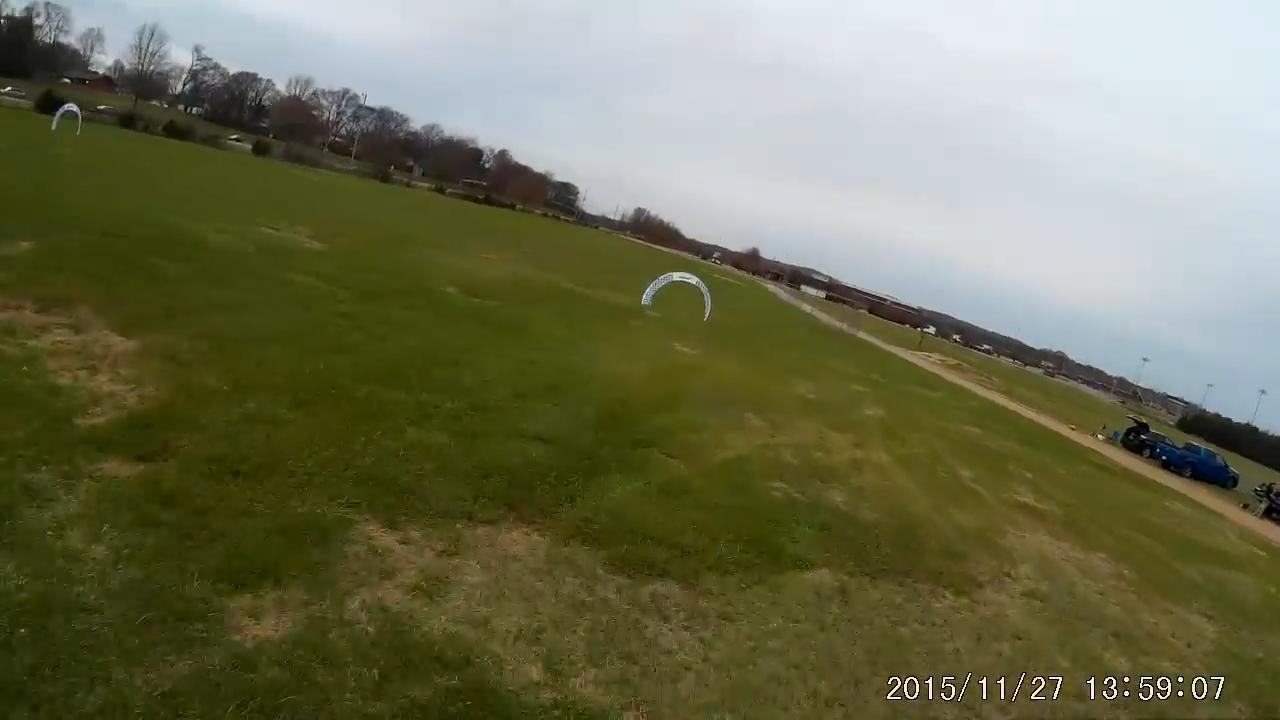gate: (639, 272, 713, 323)
